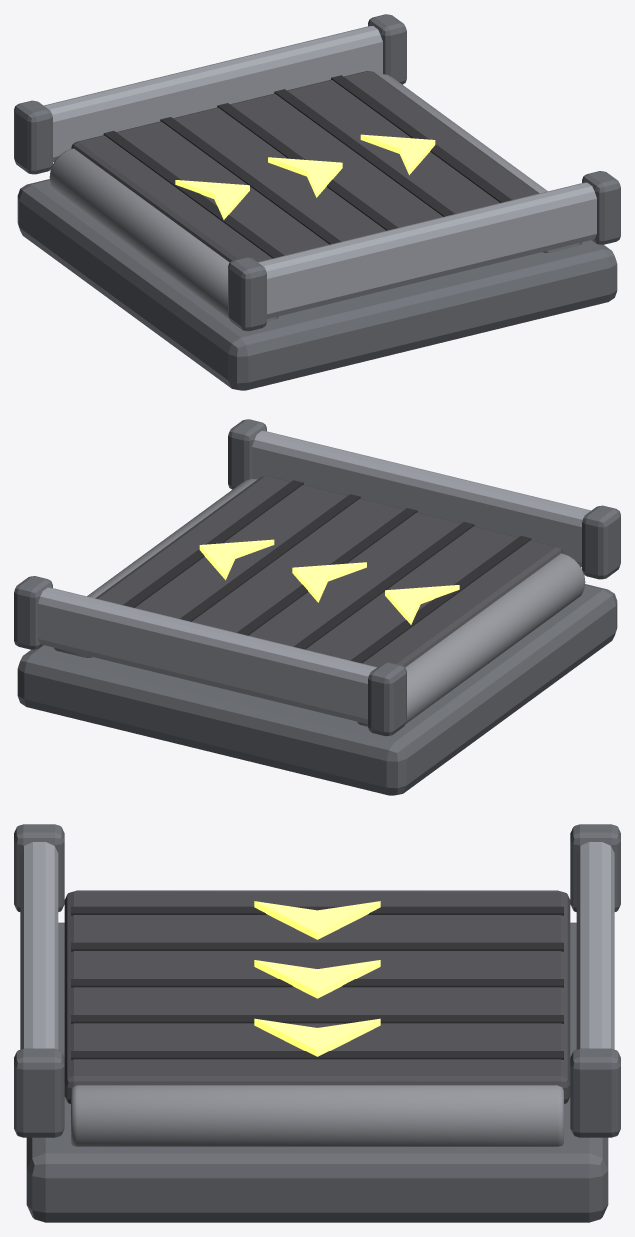
Rendered from belt.glb.
3 views of the same model, one above another, from view 1: azimuth 30°, elevation 25°; view 2: azimuth 150°, elevation 25°; view 3: azimuth 270°, elevation 25° (orthographic). The views are drawn at different scales.
Visible parts, largest first — view 1: base, belt, rail, rail.001, roller, cap, cap.002, groove.003, groove.001, groove.004, groove, cap.001 (+6 smaller); view 2: base, belt, rail.001, rail, roller, cap.002, cap, groove.003, groove.001, groove.004, groove, cap.003 (+6 smaller); view 3: belt, base, roller.001, rail, rail.001, cap.001, cap.003, groove.001, groove.004, groove.003, groove.002, groove (+6 smaller).
Boxes of the visible parts, left/top/right/bottom form: base: left=17, top=179, right=617, bottom=390; belt: left=71, top=71, right=539, bottom=262; rail: left=258, top=182, right=596, bottom=318; rail.001: left=44, top=26, right=382, bottom=162; roller: left=49, top=148, right=278, bottom=321; cap: left=228, top=257, right=266, bottom=331; cap.002: left=14, top=100, right=52, bottom=174; groove.003: left=274, top=89, right=454, bottom=216; groove.001: left=160, top=117, right=341, bottom=244; groove.004: left=331, top=75, right=511, bottom=202; groove: left=103, top=131, right=284, bottom=258; cap.001: left=582, top=171, right=620, bottom=244; base: left=17, top=584, right=617, bottom=795; belt: left=95, top=476, right=563, bottom=667; rail.001: left=38, top=587, right=376, bottom=723; rail: left=252, top=431, right=590, bottom=567; roller: left=356, top=553, right=585, bottom=726; cap.002: left=368, top=662, right=406, bottom=736; cap: left=582, top=505, right=620, bottom=579; groove.003: left=180, top=494, right=360, bottom=621; groove.001: left=293, top=522, right=474, bottom=649; groove.004: left=123, top=480, right=303, bottom=607; groove: left=350, top=536, right=531, bottom=663; cap.003: left=14, top=576, right=52, bottom=649; belt: left=64, top=891, right=570, bottom=1103; base: left=26, top=922, right=608, bottom=1222; roller.001: left=71, top=1085, right=563, bottom=1146; rail: left=20, top=842, right=58, bottom=1049; rail.001: left=576, top=842, right=614, bottom=1049; cap.001: left=14, top=1048, right=64, bottom=1137; cap.003: left=570, top=1048, right=620, bottom=1137; groove.001: left=71, top=942, right=563, bottom=951; groove.004: left=71, top=1051, right=563, bottom=1059; groove.003: left=71, top=1015, right=563, bottom=1023; groove.002: left=71, top=979, right=563, bottom=987; groove: left=71, top=906, right=563, bottom=915.
Size of the model in its own units: 0.92 by 0.3 by 0.96.
